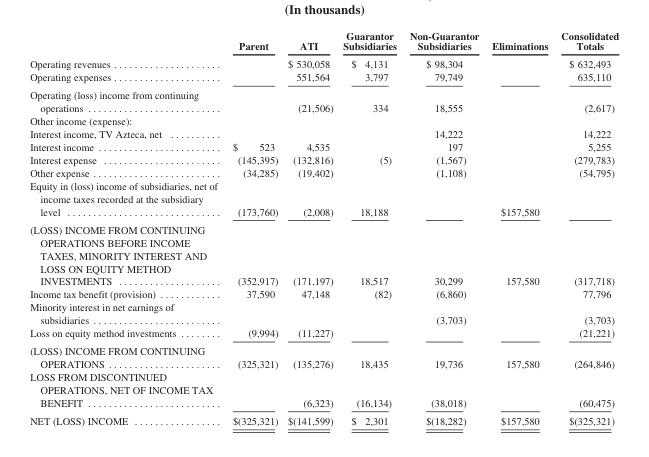table: (29, 29, 618, 426)
table column: (29, 29, 224, 426), (402, 29, 484, 426), (484, 29, 553, 426), (337, 29, 402, 426), (553, 29, 618, 426), (224, 29, 282, 426), (282, 29, 337, 426)
table column header: (29, 29, 618, 54)
table projected row header: (29, 114, 618, 127)
table row: (29, 220, 618, 287), (29, 178, 618, 220), (29, 370, 618, 411), (29, 85, 618, 114), (29, 341, 618, 370), (29, 300, 618, 326), (29, 29, 618, 54), (29, 54, 618, 70), (29, 70, 618, 85), (29, 326, 618, 341), (29, 411, 618, 426), (29, 114, 618, 127), (29, 127, 618, 140), (29, 140, 618, 153), (29, 165, 618, 178), (29, 287, 618, 300), (29, 153, 618, 165)
